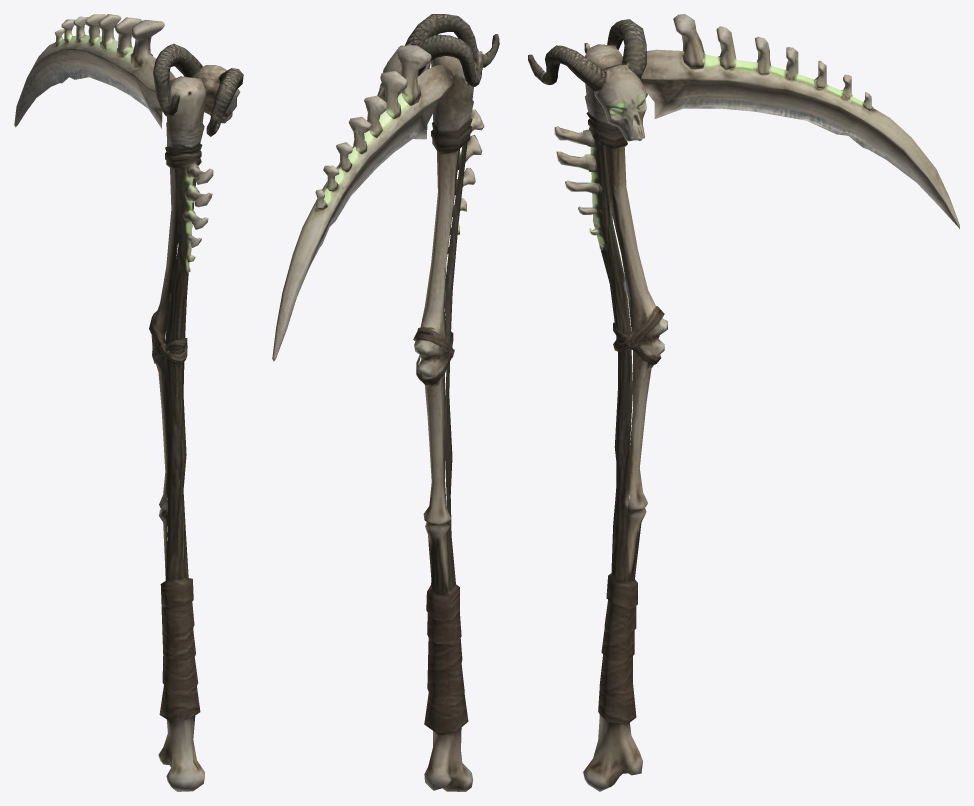
The model's file is gear_greenbone_scythe.glb.
3 renders of one model, left to right at view 1: azimuth 30°, elevation 25°; view 2: azimuth 150°, elevation 25°; view 3: azimuth 270°, elevation 25°, orthographic. The views are drawn at different scales.
Visible parts, largest first — view 1: tripo_node_a72dbdec-6b31-41f6-9bfa-788bdb95e1cc; view 2: tripo_node_a72dbdec-6b31-41f6-9bfa-788bdb95e1cc; view 3: tripo_node_a72dbdec-6b31-41f6-9bfa-788bdb95e1cc.
Boxes of the visible parts, box(x1,y1,x2,y2) form: tripo_node_a72dbdec-6b31-41f6-9bfa-788bdb95e1cc: box(14, 14, 243, 791); tripo_node_a72dbdec-6b31-41f6-9bfa-788bdb95e1cc: box(272, 14, 499, 791); tripo_node_a72dbdec-6b31-41f6-9bfa-788bdb95e1cc: box(528, 14, 959, 791).
Bounding box in the file's own units: 0.1192 × 0.998 × 0.5059.
Materials: 1 (1 with a texture image).
